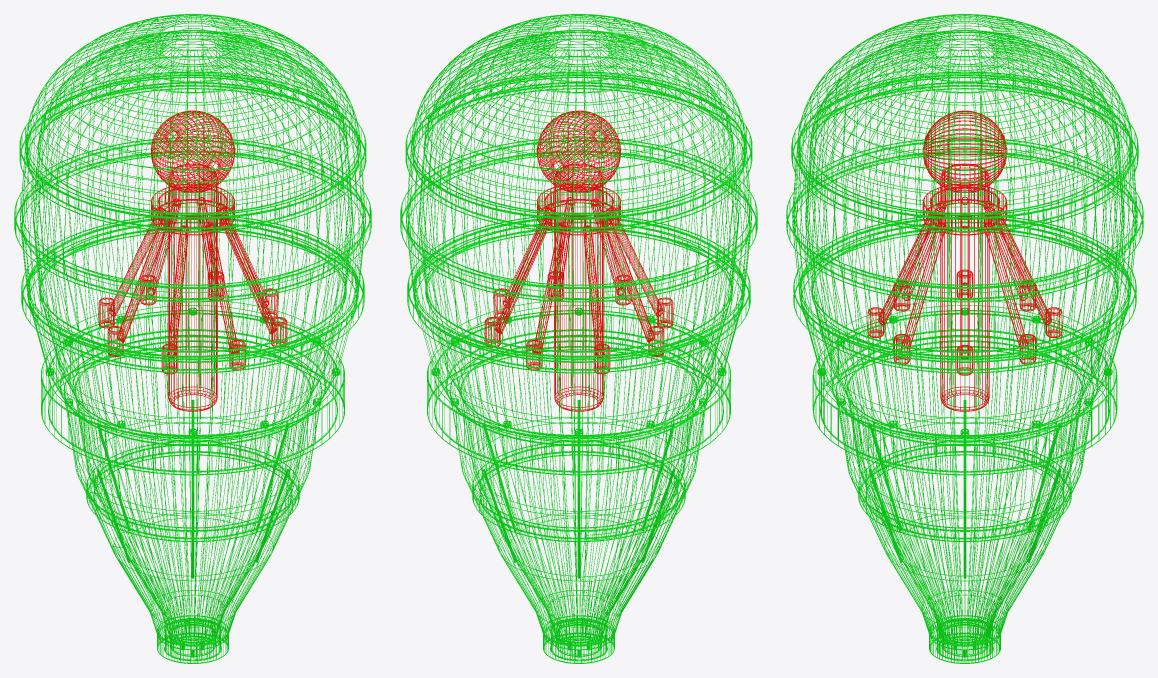
Rendered from shield-x50-highlight-generator-and-broadcast-system.glb.
3 renders of one model, left to right at view 1: azimuth 30°, elevation 25°; view 2: azimuth 150°, elevation 25°; view 3: azimuth 270°, elevation 25°, orthographic.
Visible parts, largest first — view 1: paramagnetic-shielding technical wire, chassis technical wire, generator-and-broadcast-system technical wire, power-input technical wire; view 2: paramagnetic-shielding technical wire, chassis technical wire, generator-and-broadcast-system technical wire, power-input technical wire; view 3: paramagnetic-shielding technical wire, chassis technical wire, generator-and-broadcast-system technical wire, power-input technical wire.
Part boxes in pixels (x1,y1,x2,y2): paramagnetic-shielding technical wire: (14,14,371,357); chassis technical wire: (21,214,364,650); generator-and-broadcast-system technical wire: (98,110,287,411); power-input technical wire: (157,615,228,663); paramagnetic-shielding technical wire: (400,14,757,357); chassis technical wire: (407,214,750,650); generator-and-broadcast-system technical wire: (484,110,673,411); power-input technical wire: (543,615,614,663); paramagnetic-shielding technical wire: (786,14,1143,357); chassis technical wire: (793,214,1136,650); generator-and-broadcast-system technical wire: (867,110,1062,411); power-input technical wire: (929,615,1000,663).
Bounding box in the file's own units: 2.05 × 3.9 × 2.05.
